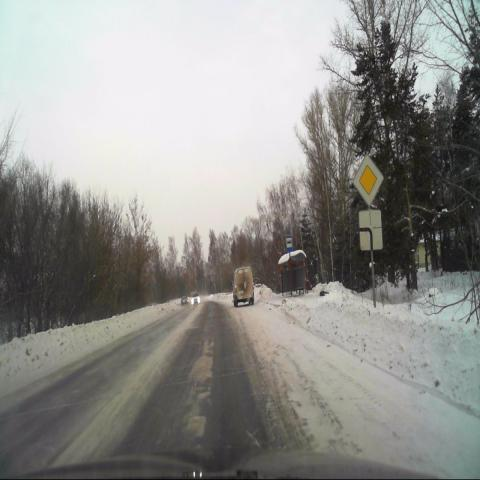8_13: (358, 210, 382, 251)
